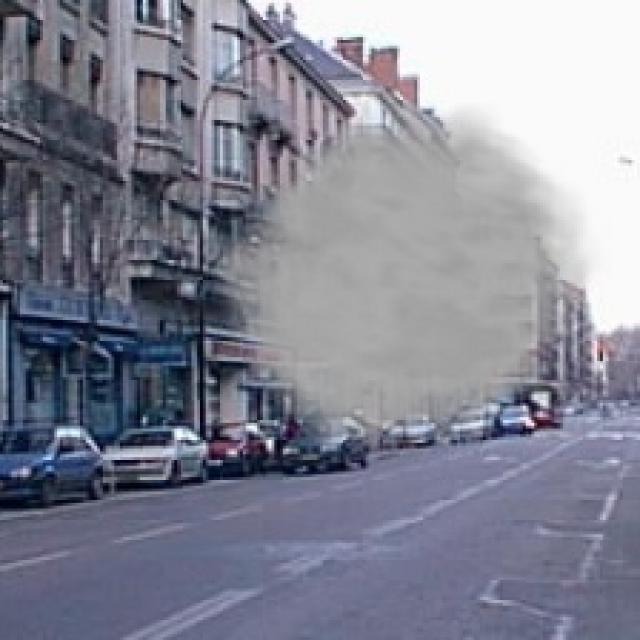smoke: (203, 103, 611, 460)
